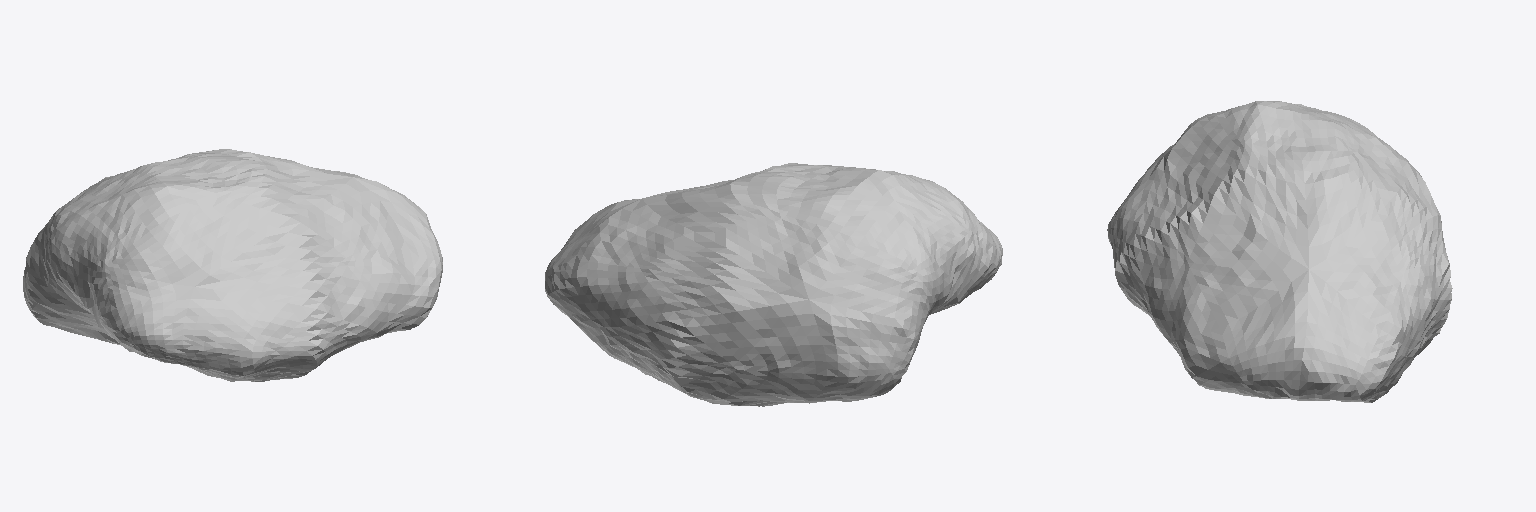
Rendered from rock.obj.
3 renders of one model, left to right at view 1: azimuth 30°, elevation 25°; view 2: azimuth 150°, elevation 25°; view 3: azimuth 270°, elevation 25°, orthographic.
Visible parts, largest first — view 1: rock_rock.001; view 2: rock_rock.001; view 3: rock_rock.001.
Part boxes in pixels (x1,y1,x2,y2): rock_rock.001: (23, 149, 442, 381); rock_rock.001: (545, 163, 1002, 406); rock_rock.001: (1107, 101, 1452, 402).
Size of the model in its own units: 2.47 by 1.29 by 1.97.